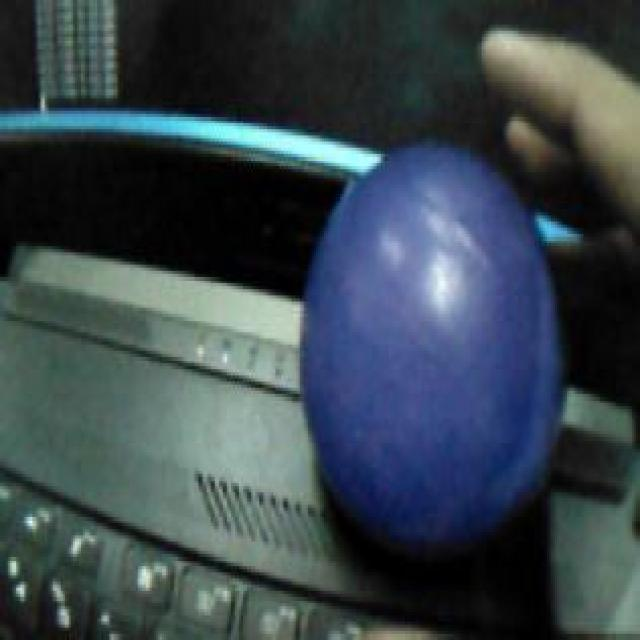BallPurple: (299, 143, 561, 553)
